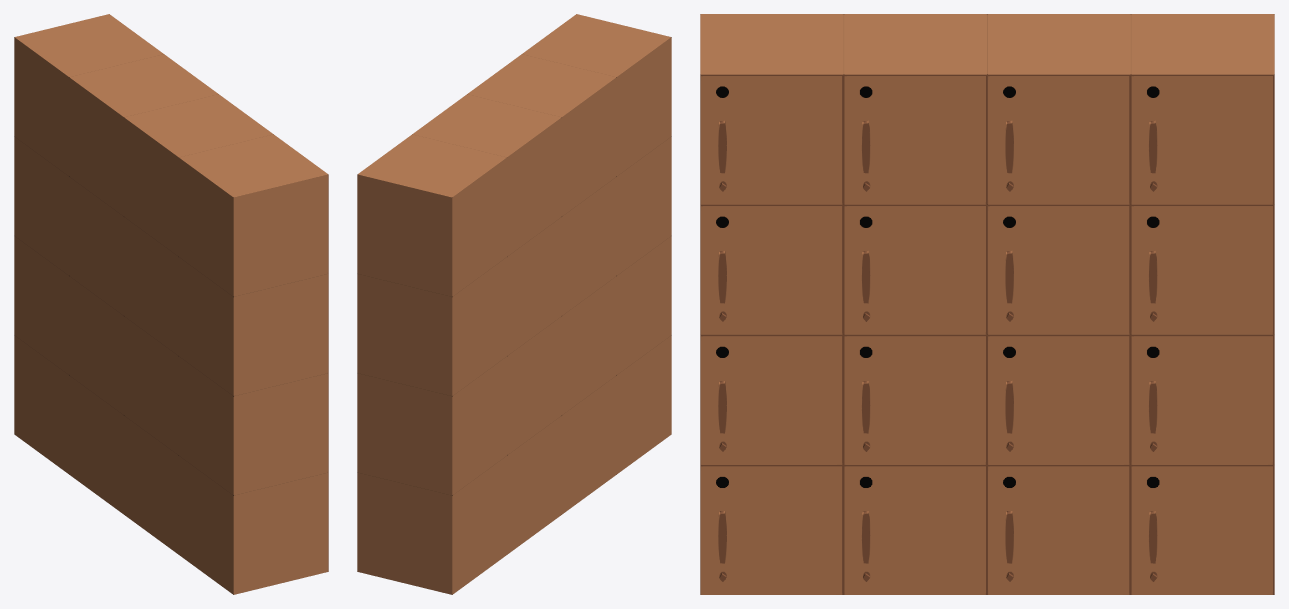
Rendered from Locker.fbx.
The picture shows the model from 3 angles, left to right: view 1: azimuth 30°, elevation 25°; view 2: azimuth 150°, elevation 25°; view 3: azimuth 270°, elevation 25°; orthographic projection. The views are drawn at different scales.
Parts seen in each view (by area): view 1: Cube.001; view 2: Cube.001; view 3: Cube.001.
Part boxes in pixels (x1,y1,x2,y2): Cube.001: (14, 14, 328, 594); Cube.001: (357, 14, 671, 594); Cube.001: (700, 14, 1274, 594).
Bounding box in the file's own units: 208 × 800 × 800.
